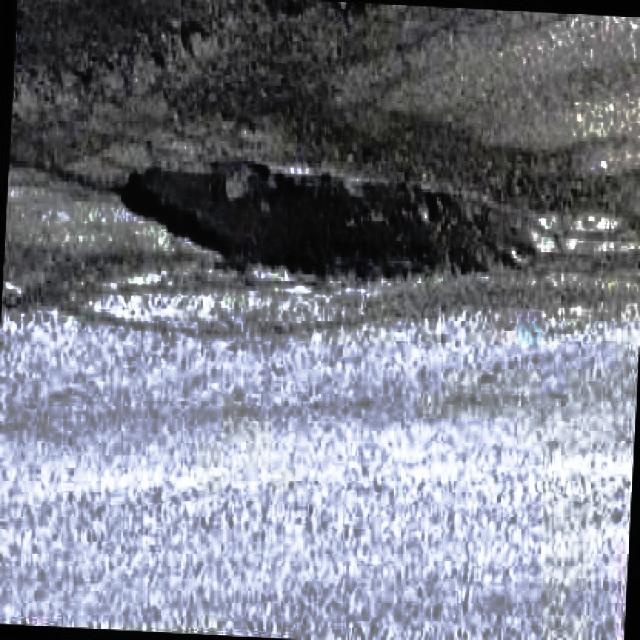pothole: (109, 151, 546, 292)
